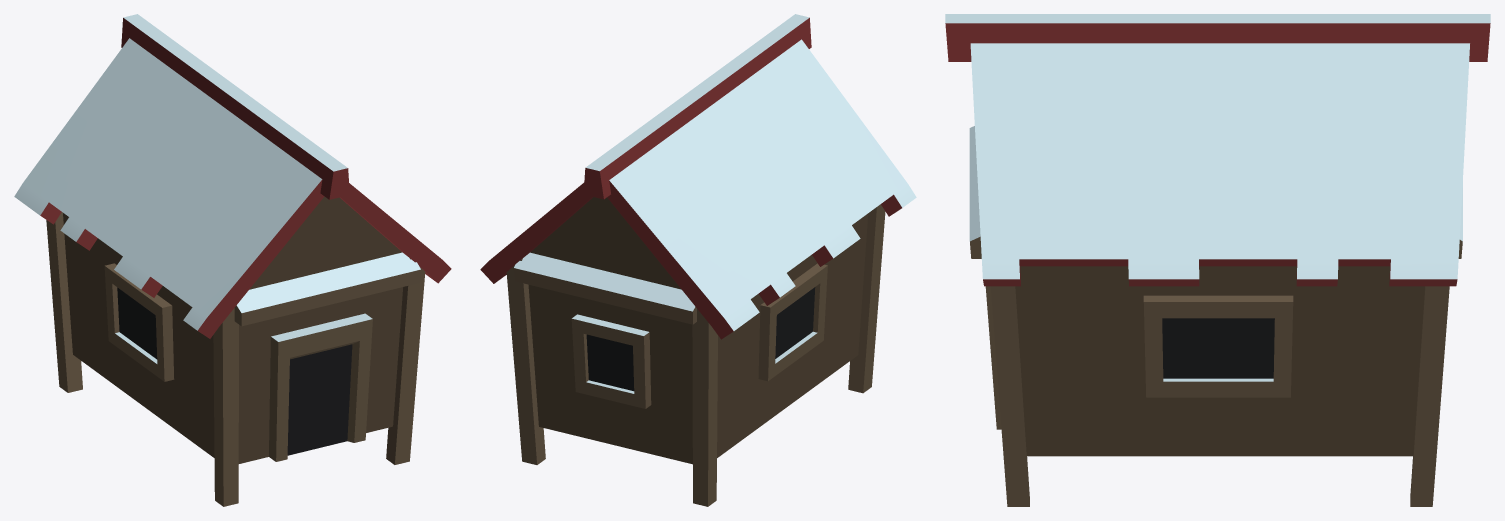
File: SM_Bld_Adventure_Hut_01_Snow.fbx
The picture shows the model from 3 angles, left to right: view 1: azimuth 30°, elevation 25°; view 2: azimuth 150°, elevation 25°; view 3: azimuth 270°, elevation 25°; orthographic projection. The views are drawn at different scales.
Parts seen in each view (by area): view 1: SM_Bld_Adventure_Hut_01_Snow; view 2: SM_Bld_Adventure_Hut_01_Snow; view 3: SM_Bld_Adventure_Hut_01_Snow.
Boxes of the visible parts, x1,y1,x2,y2 form: SM_Bld_Adventure_Hut_01_Snow: [14, 14, 451, 506]; SM_Bld_Adventure_Hut_01_Snow: [480, 14, 916, 506]; SM_Bld_Adventure_Hut_01_Snow: [945, 14, 1490, 506].
Bounding box in the file's own units: 68.19 × 85.04 × 97.78.
1 material, 1 textured.
